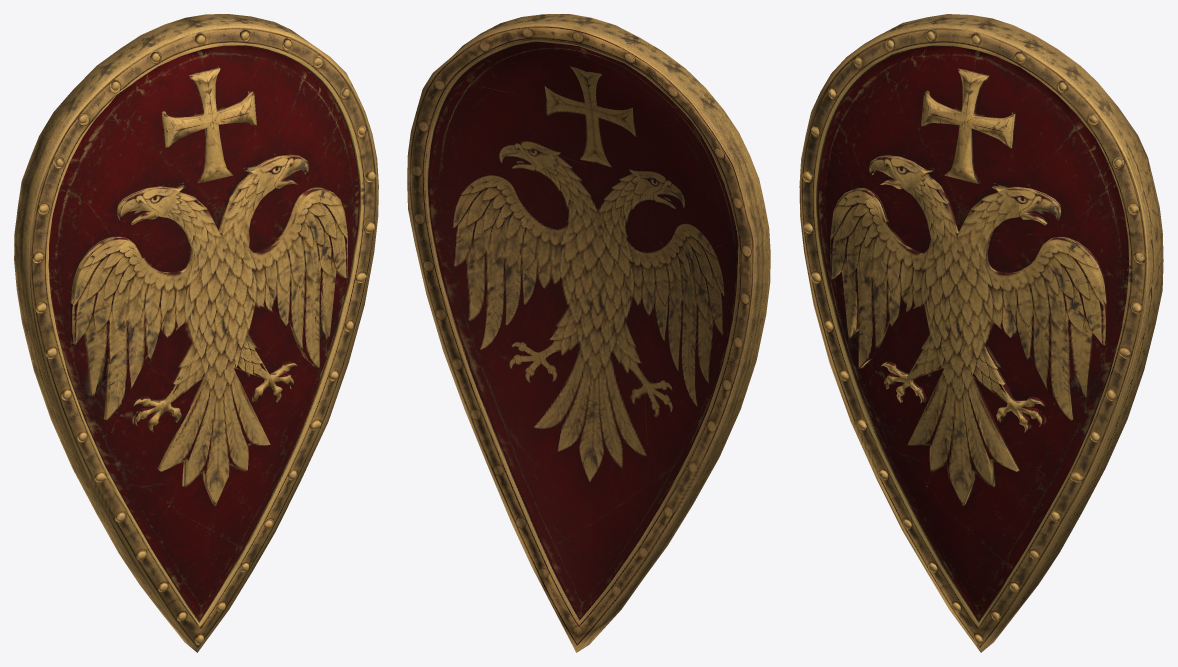
File: byzantine-eagle.glb
3 renders of one model, left to right at view 1: azimuth 30°, elevation 25°; view 2: azimuth 150°, elevation 25°; view 3: azimuth 330°, elevation 25°, orthographic.
Size of the model in its own units: 0.6436 by 1.1 by 0.1224.
1 material, 1 textured.
